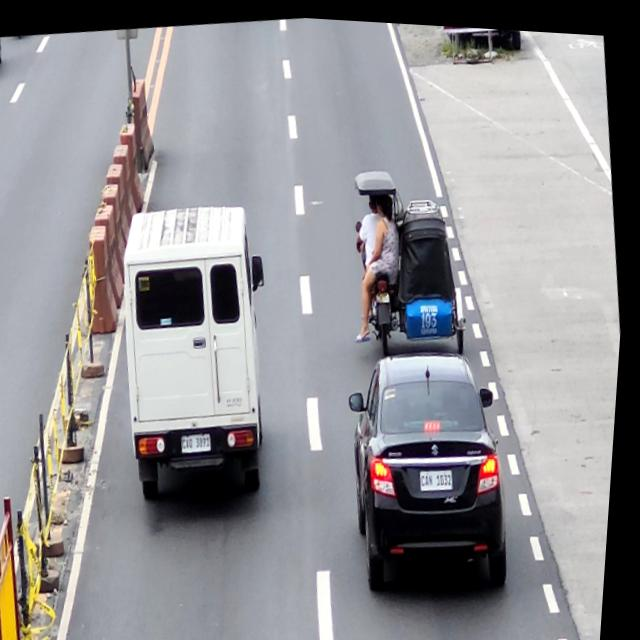Car: (105, 191, 298, 507), (338, 338, 531, 598)
License-Plate: (425, 459, 460, 488), (185, 428, 219, 453), (378, 287, 394, 300)
Tricycle: (344, 152, 482, 358)
